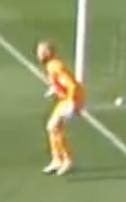goalkeeper: (31, 27, 96, 184)
